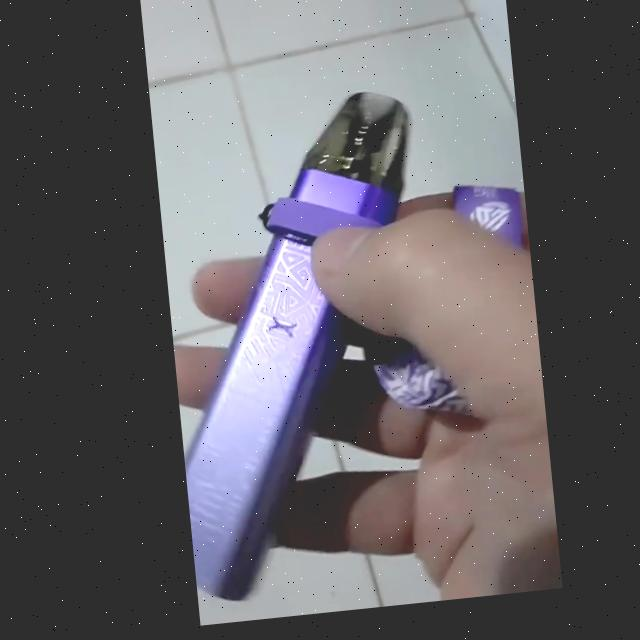vape: (149, 98, 442, 610)
